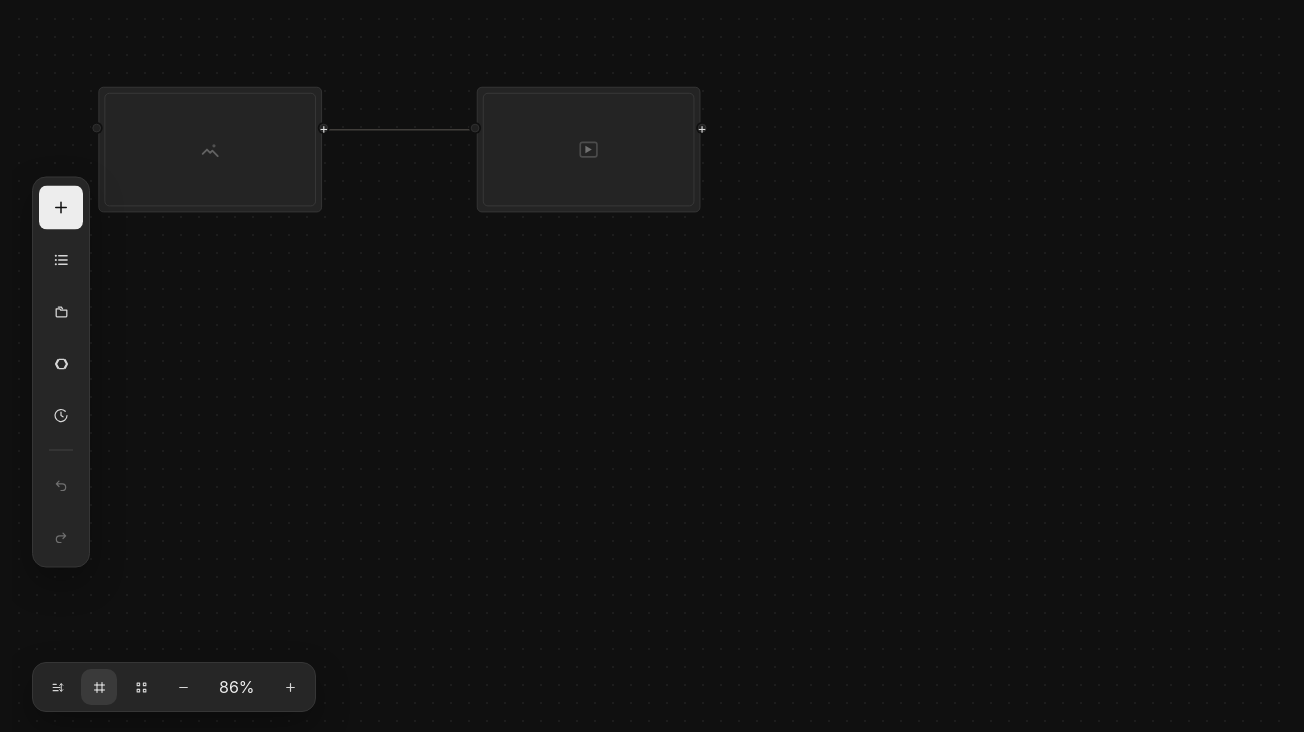
Test: NodeWorkflowPanel smoke › keeps the linked-node menu open while moving from the canvas to the menu and can create a node
The width and height of the screenshot is (1304, 732).
Press the mouse on the 1st button "+" at (324, 128), box [319, 124, 328, 132]
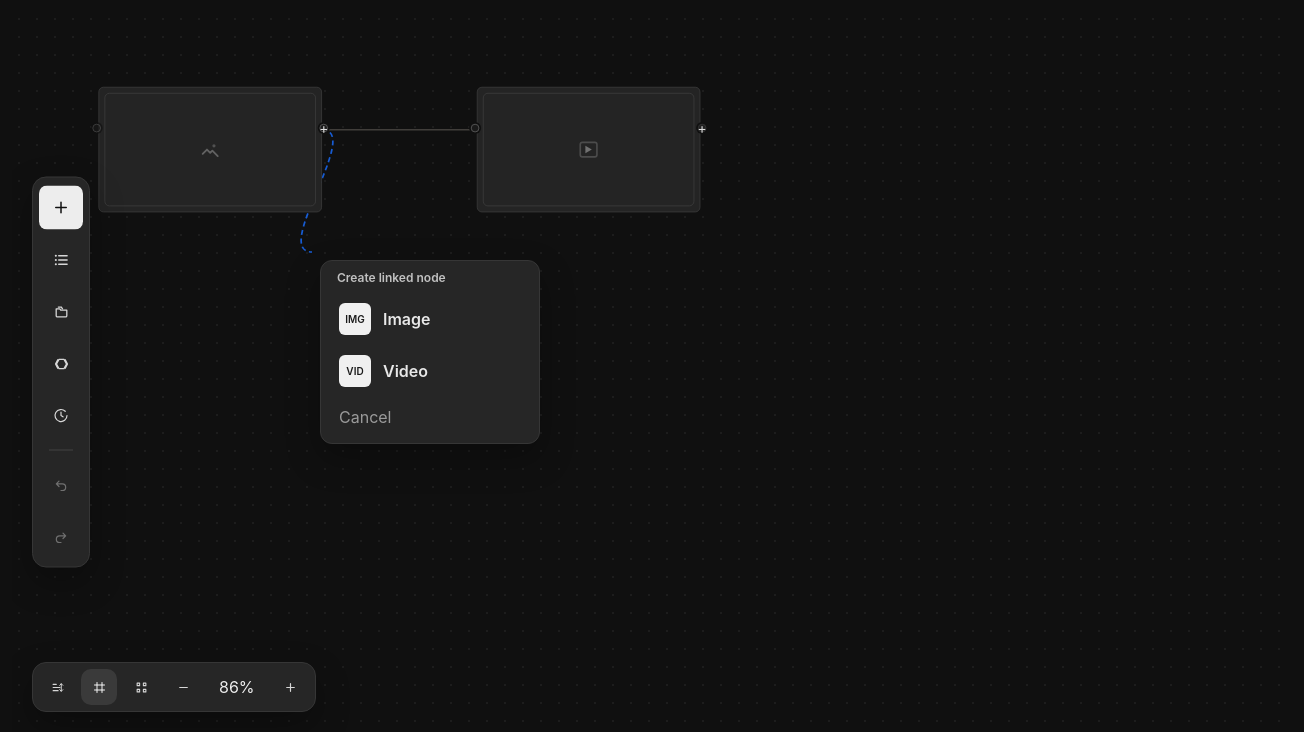
Expected: the text "Create linked node" is shown, [337, 270, 446, 285]
Move the pointer off the element with class "workflow-canvas"
Expected: the text "Create linked node" is shown, [337, 270, 446, 285]
Expected: the element with class "workflow-connection-menu" is shown, [320, 260, 540, 444]
Expected: the button "IMG Image" is shown
Click the button "IMG Image" at (430, 319), box [329, 295, 531, 343]
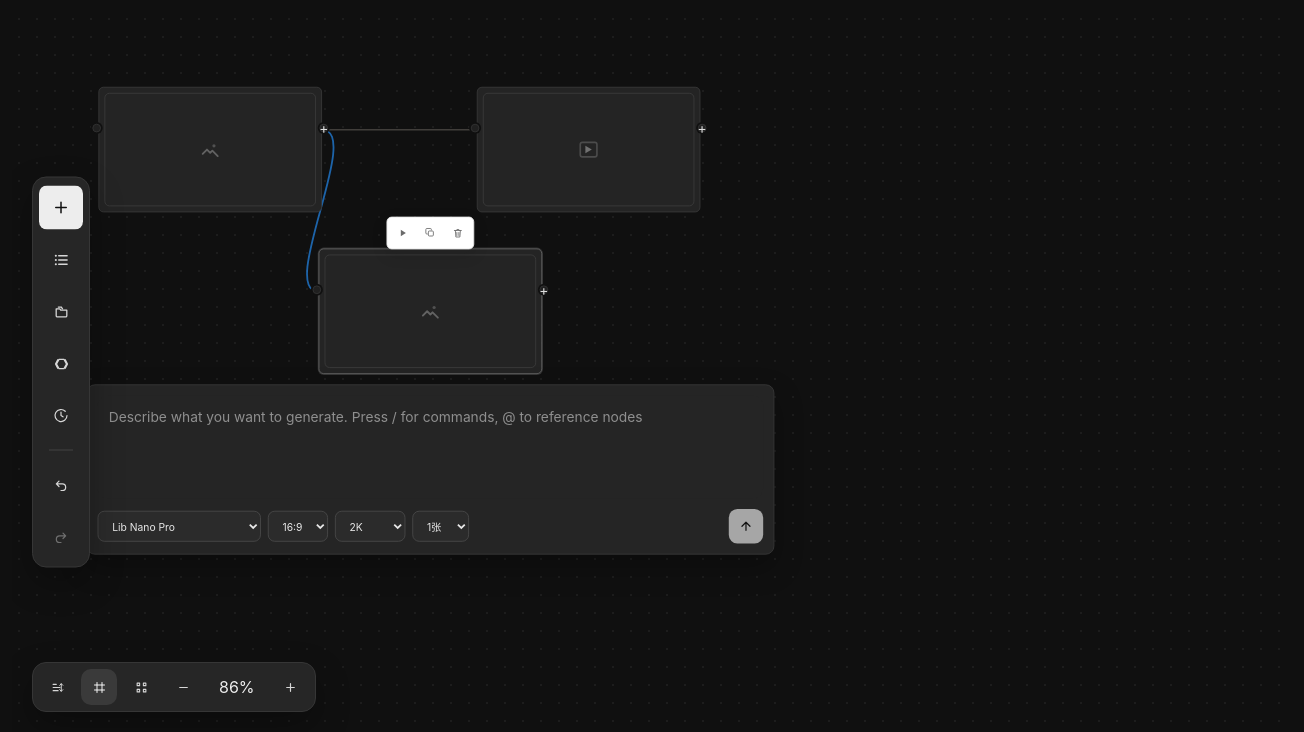
Expected: the number of elements with class "workflow-node-card" is 3, [98, 87, 322, 212]; [477, 87, 700, 212]; [319, 248, 542, 374]
